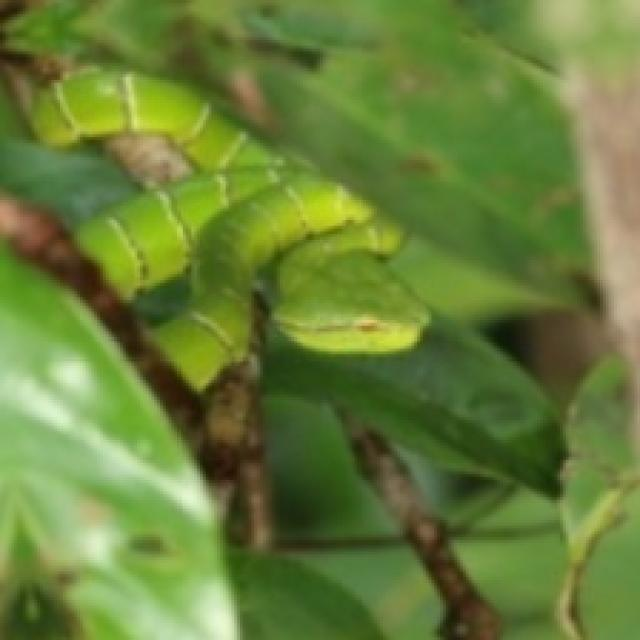north ph temple pitviper: (11, 66, 429, 389)
